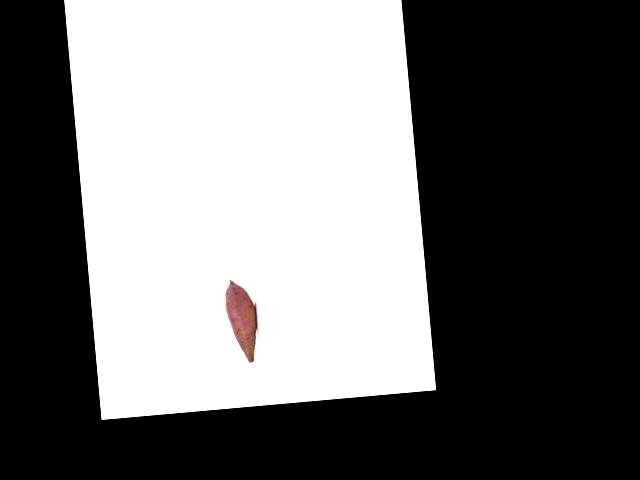sweet_potato: (223, 277, 258, 364)
